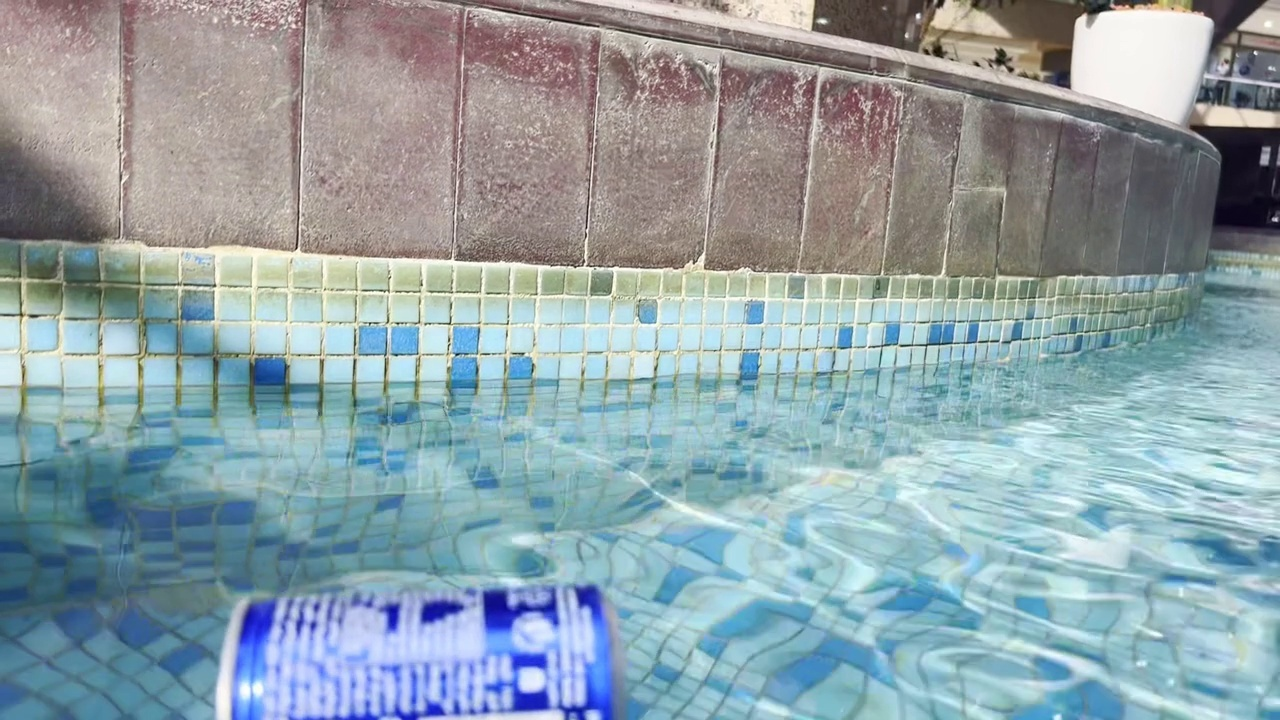debris: (199, 572, 628, 720)
